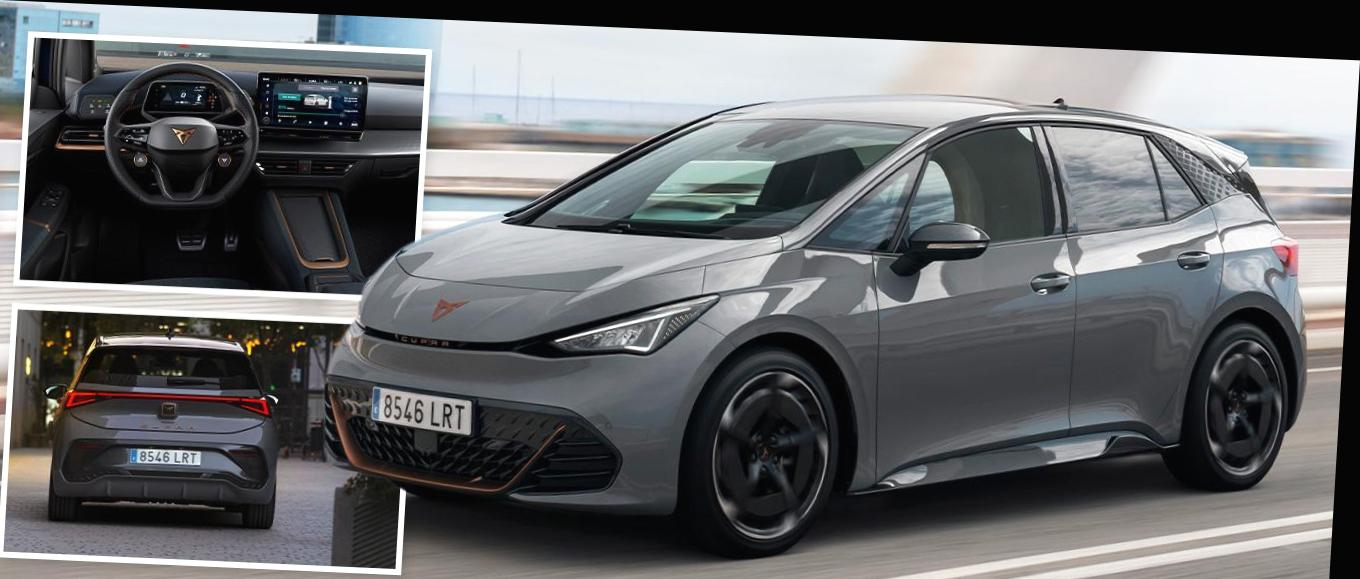License_Plate: (362, 375, 485, 450), (123, 439, 204, 472)
